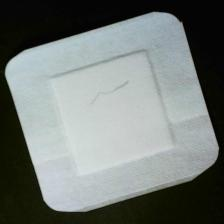Dressing: (5, 11, 223, 215)
F_Body: (86, 75, 136, 110)
